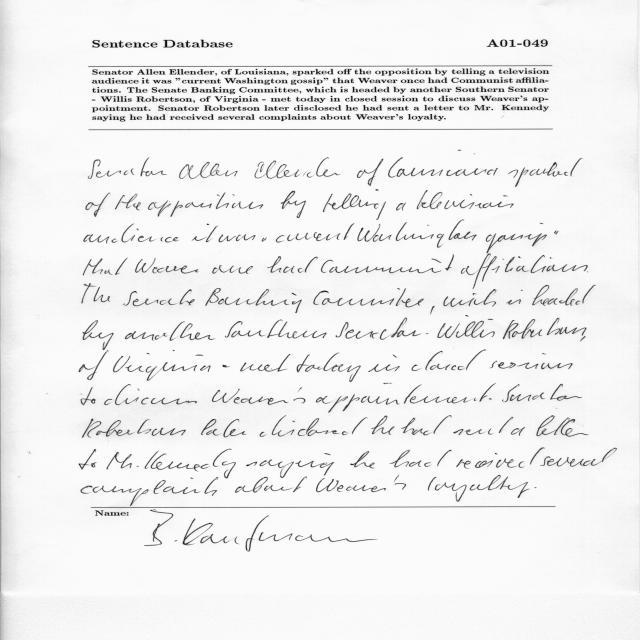word: (328, 383, 496, 413), (461, 254, 588, 289), (81, 477, 218, 506), (357, 220, 477, 248), (388, 150, 498, 178), (113, 350, 211, 381), (149, 192, 264, 217), (145, 449, 236, 479), (435, 475, 530, 502), (321, 255, 454, 274), (205, 288, 302, 313), (260, 416, 367, 437), (246, 453, 334, 478), (509, 158, 583, 187), (212, 387, 331, 405), (314, 288, 424, 307), (316, 475, 436, 492), (82, 419, 186, 438), (84, 223, 178, 244), (323, 189, 386, 220), (104, 384, 197, 405), (225, 320, 326, 339), (336, 318, 421, 340), (456, 448, 545, 469), (297, 353, 361, 382), (417, 190, 514, 209), (486, 223, 547, 253), (125, 321, 215, 341), (255, 158, 340, 179), (503, 318, 586, 339), (89, 157, 167, 179), (412, 350, 486, 371), (276, 224, 354, 243), (540, 448, 617, 467), (504, 384, 582, 402), (532, 285, 596, 306), (437, 315, 495, 338), (490, 353, 573, 369), (123, 290, 195, 307), (235, 476, 307, 493), (537, 416, 589, 437), (453, 417, 513, 435), (390, 450, 452, 467), (401, 416, 452, 436), (179, 162, 238, 179), (135, 258, 199, 273), (444, 289, 497, 307), (83, 320, 114, 350), (240, 354, 290, 372), (79, 350, 108, 380), (267, 256, 318, 273), (201, 419, 246, 437), (83, 258, 128, 275), (357, 159, 383, 186), (281, 191, 306, 218), (106, 452, 139, 470), (86, 193, 110, 217), (368, 354, 400, 372), (82, 284, 110, 303), (192, 224, 219, 242), (371, 416, 394, 435), (350, 451, 375, 468), (115, 194, 141, 210), (79, 449, 97, 470), (212, 265, 253, 274), (219, 234, 255, 242), (81, 387, 96, 405), (507, 290, 524, 304), (511, 427, 525, 436), (396, 203, 406, 211), (430, 306, 435, 314), (580, 336, 586, 341), (262, 238, 267, 242), (554, 231, 559, 235), (223, 365, 230, 367), (502, 400, 504, 402), (426, 333, 429, 334), (535, 487, 537, 488), (587, 272, 588, 273)
